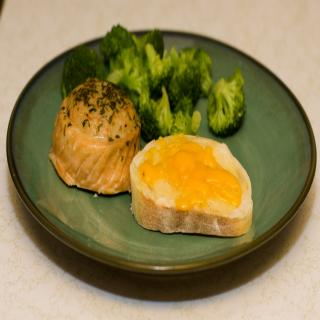Broccoli: (60, 22, 210, 138), (205, 70, 246, 136)
